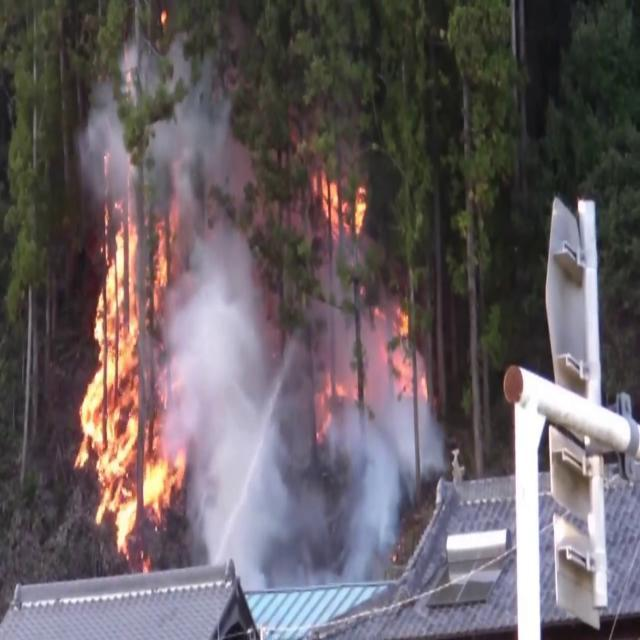Fire: (69, 205, 185, 548), (307, 152, 375, 264)
Smoke: (175, 246, 301, 604), (279, 292, 418, 572), (65, 24, 254, 218)
